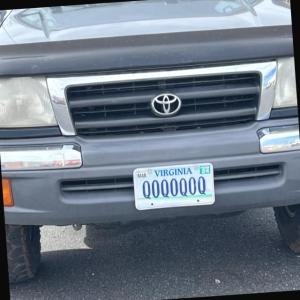Plate: (133, 162, 215, 210)
